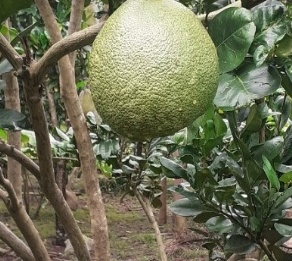Buoi: (86, 1, 215, 147)
